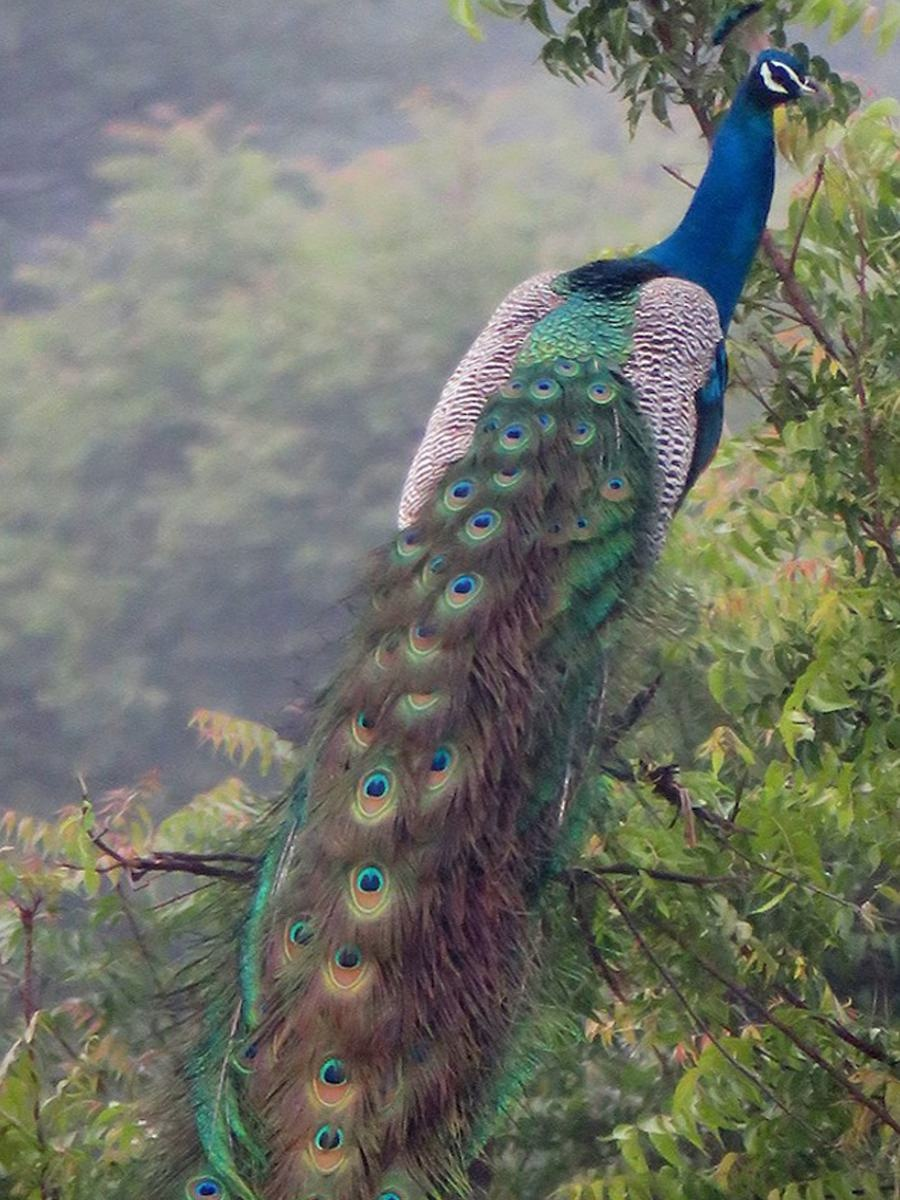peacock: (41, 49, 860, 1200)
